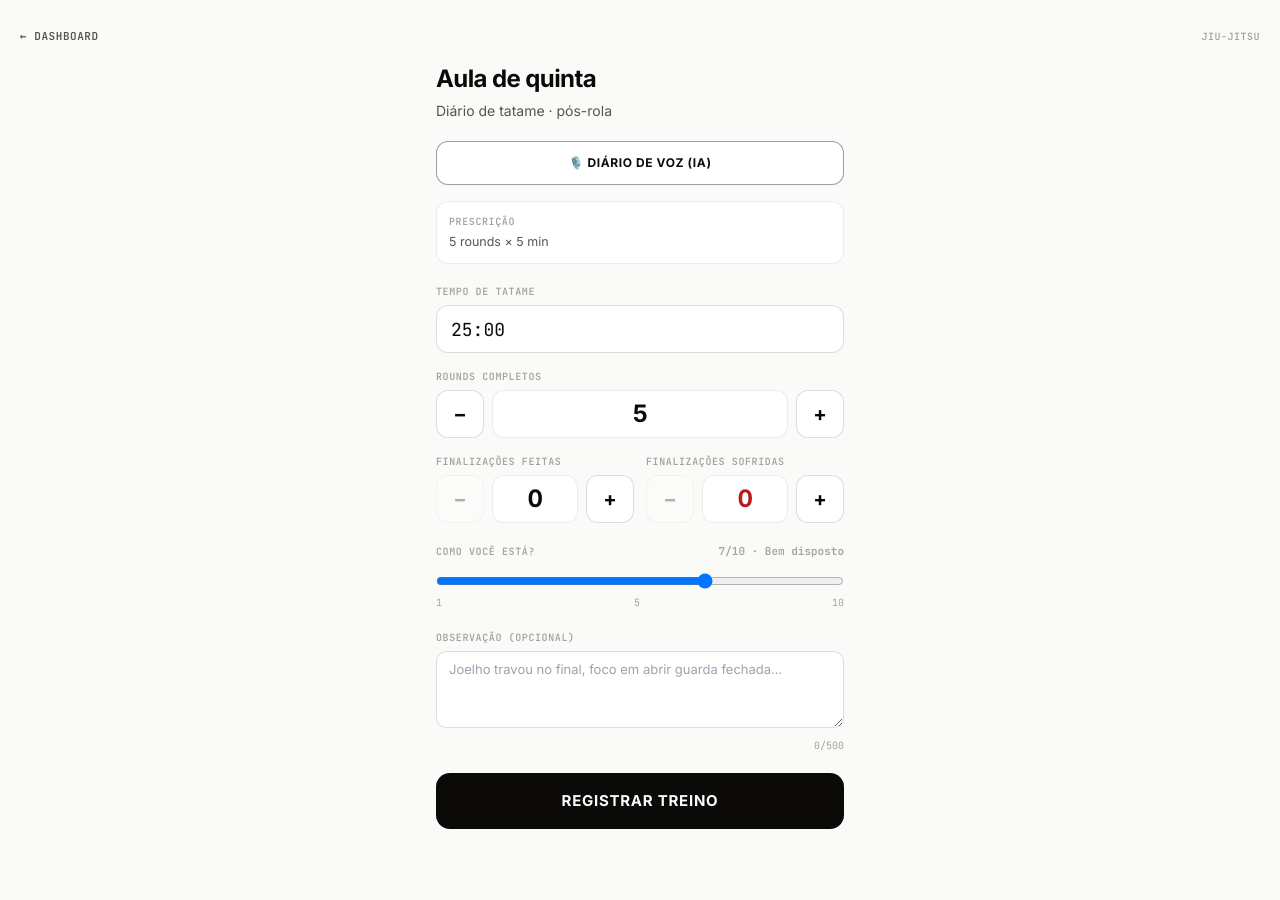
Test: JiuJitsuLive — UI fricção-zero (PR #23) › counter +/- atualiza valores (rounds)
The image size is (1280, 900).
Click the button named "Aumentar". click: (820, 414)
box: left=796, top=390, right=844, bottom=438
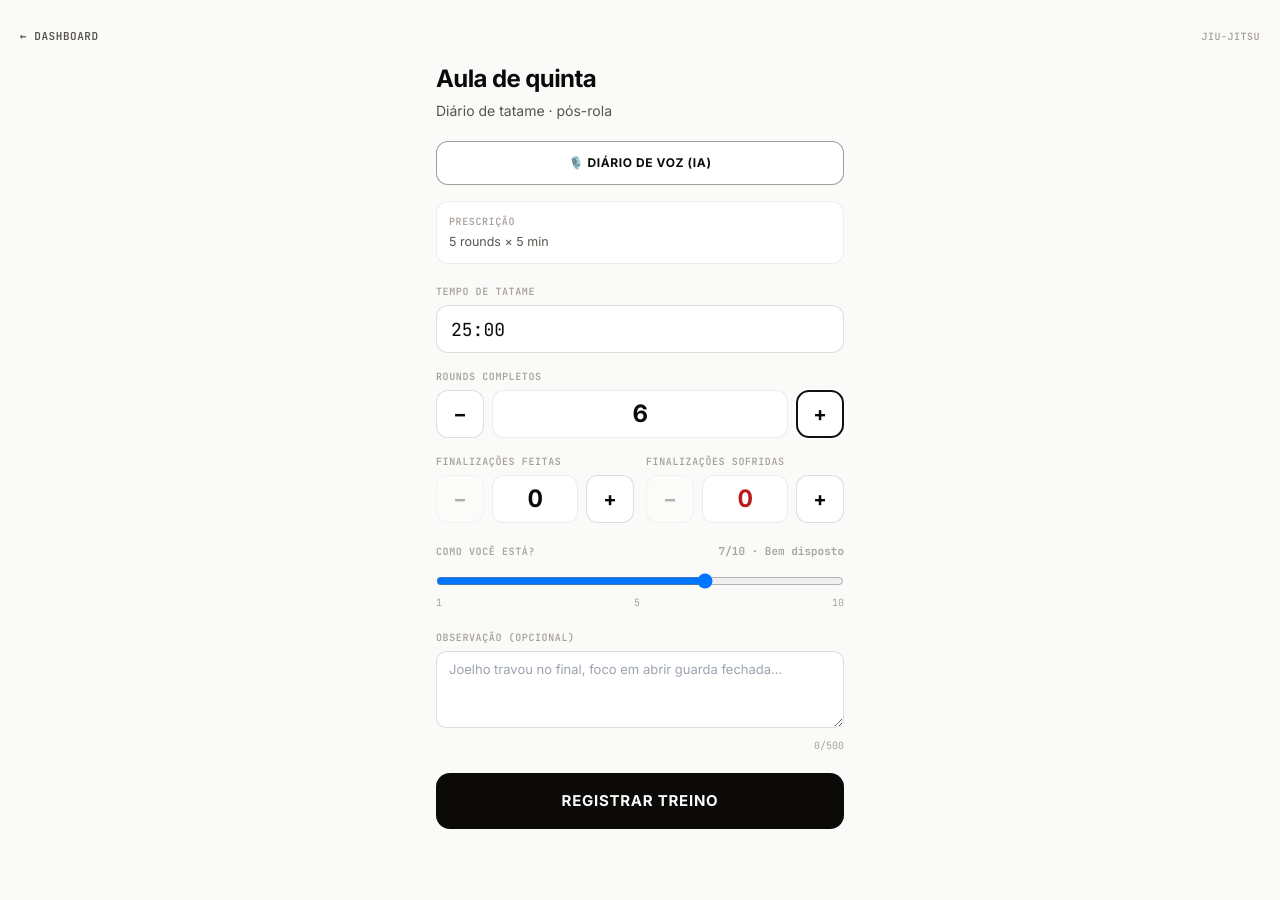
Expected: the text with test id "rounds" reads "6", left=632, top=399, right=647, bottom=428
Click the button named "Diminuir". click: (460, 414)
box: left=436, top=390, right=484, bottom=438
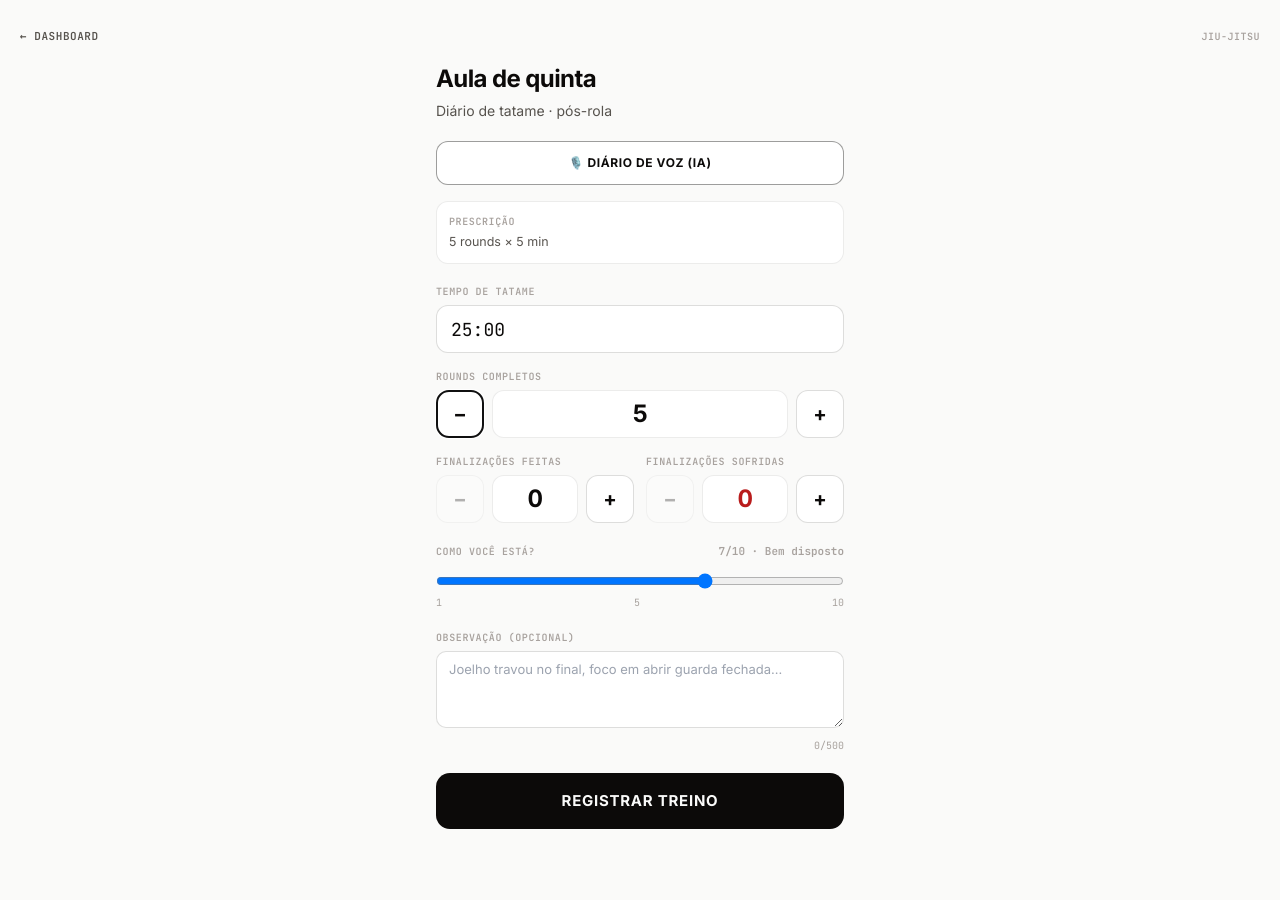
Click the button named "Diminuir". click: (460, 414)
box: left=436, top=390, right=484, bottom=438
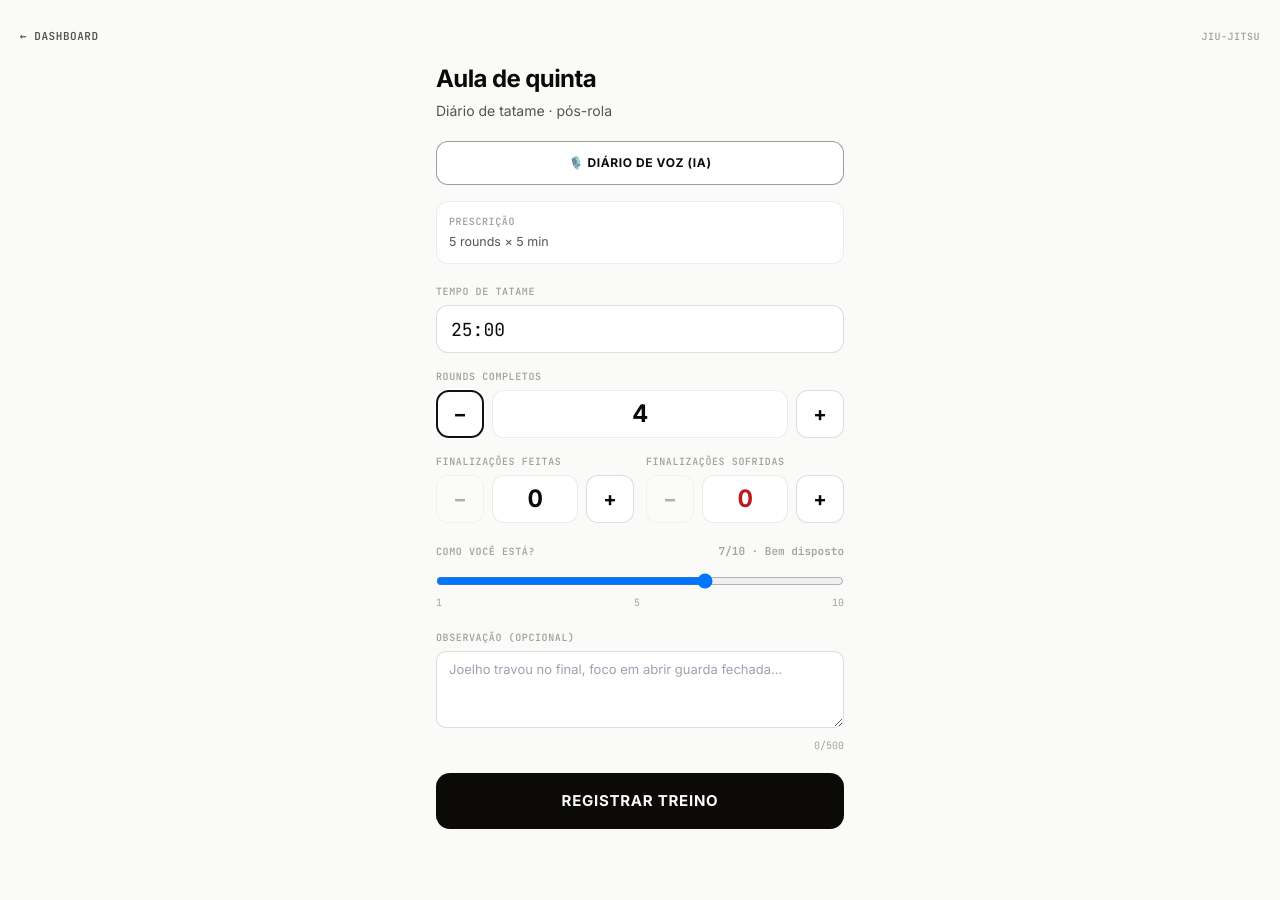
Expected: the text with test id "rounds" reads "4", left=632, top=399, right=647, bottom=428
